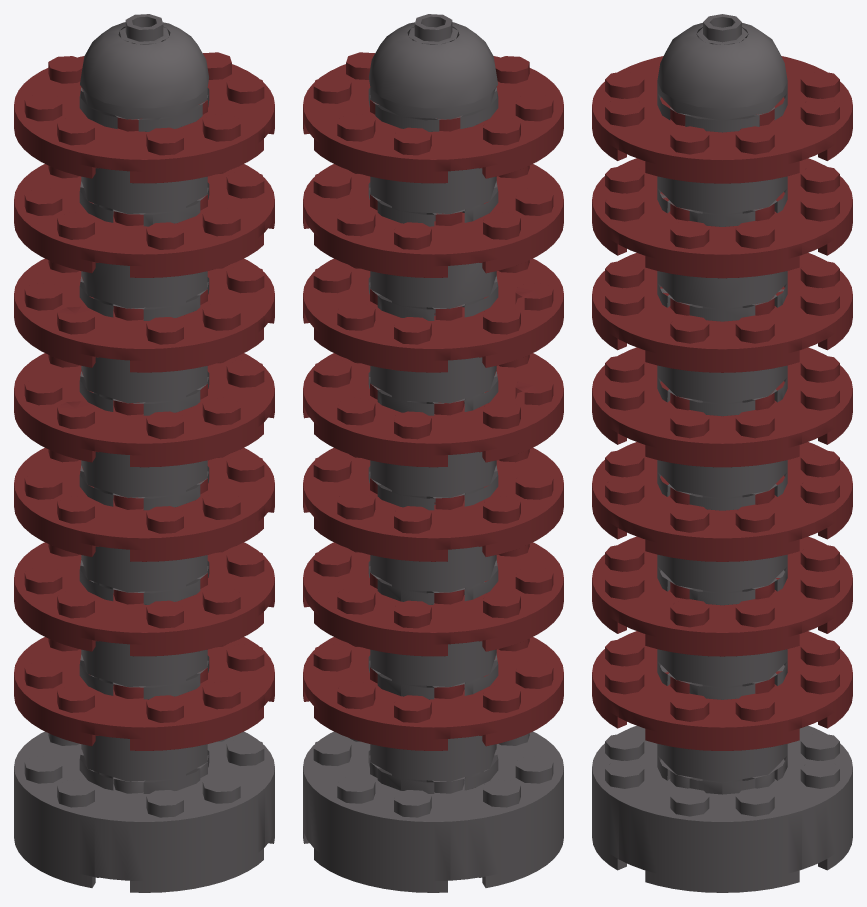
The model's file is TeslaCoil.fbx.
The picture shows the model from 3 angles, left to right: view 1: azimuth 30°, elevation 25°; view 2: azimuth 150°, elevation 25°; view 3: azimuth 270°, elevation 25°; orthographic projection.
Visible parts, largest first — view 1: 00001_60474.dat; view 2: 00001_60474.dat; view 3: 00001_60474.dat.
Part boxes in pixels (left/top/right/bottom): 00001_60474.dat: left=14, top=14, right=274, bottom=892; 00001_60474.dat: left=303, top=14, right=563, bottom=892; 00001_60474.dat: left=592, top=14, right=852, bottom=892.
Bounding box in the file's own units: 0.8 × 2.76 × 0.8.
